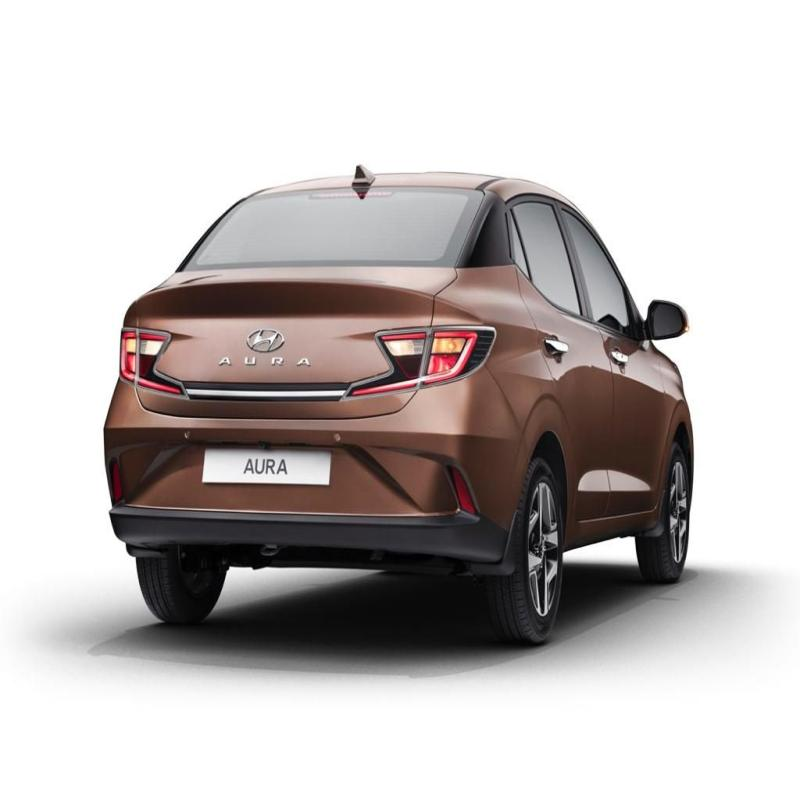car: (114, 141, 710, 623)
